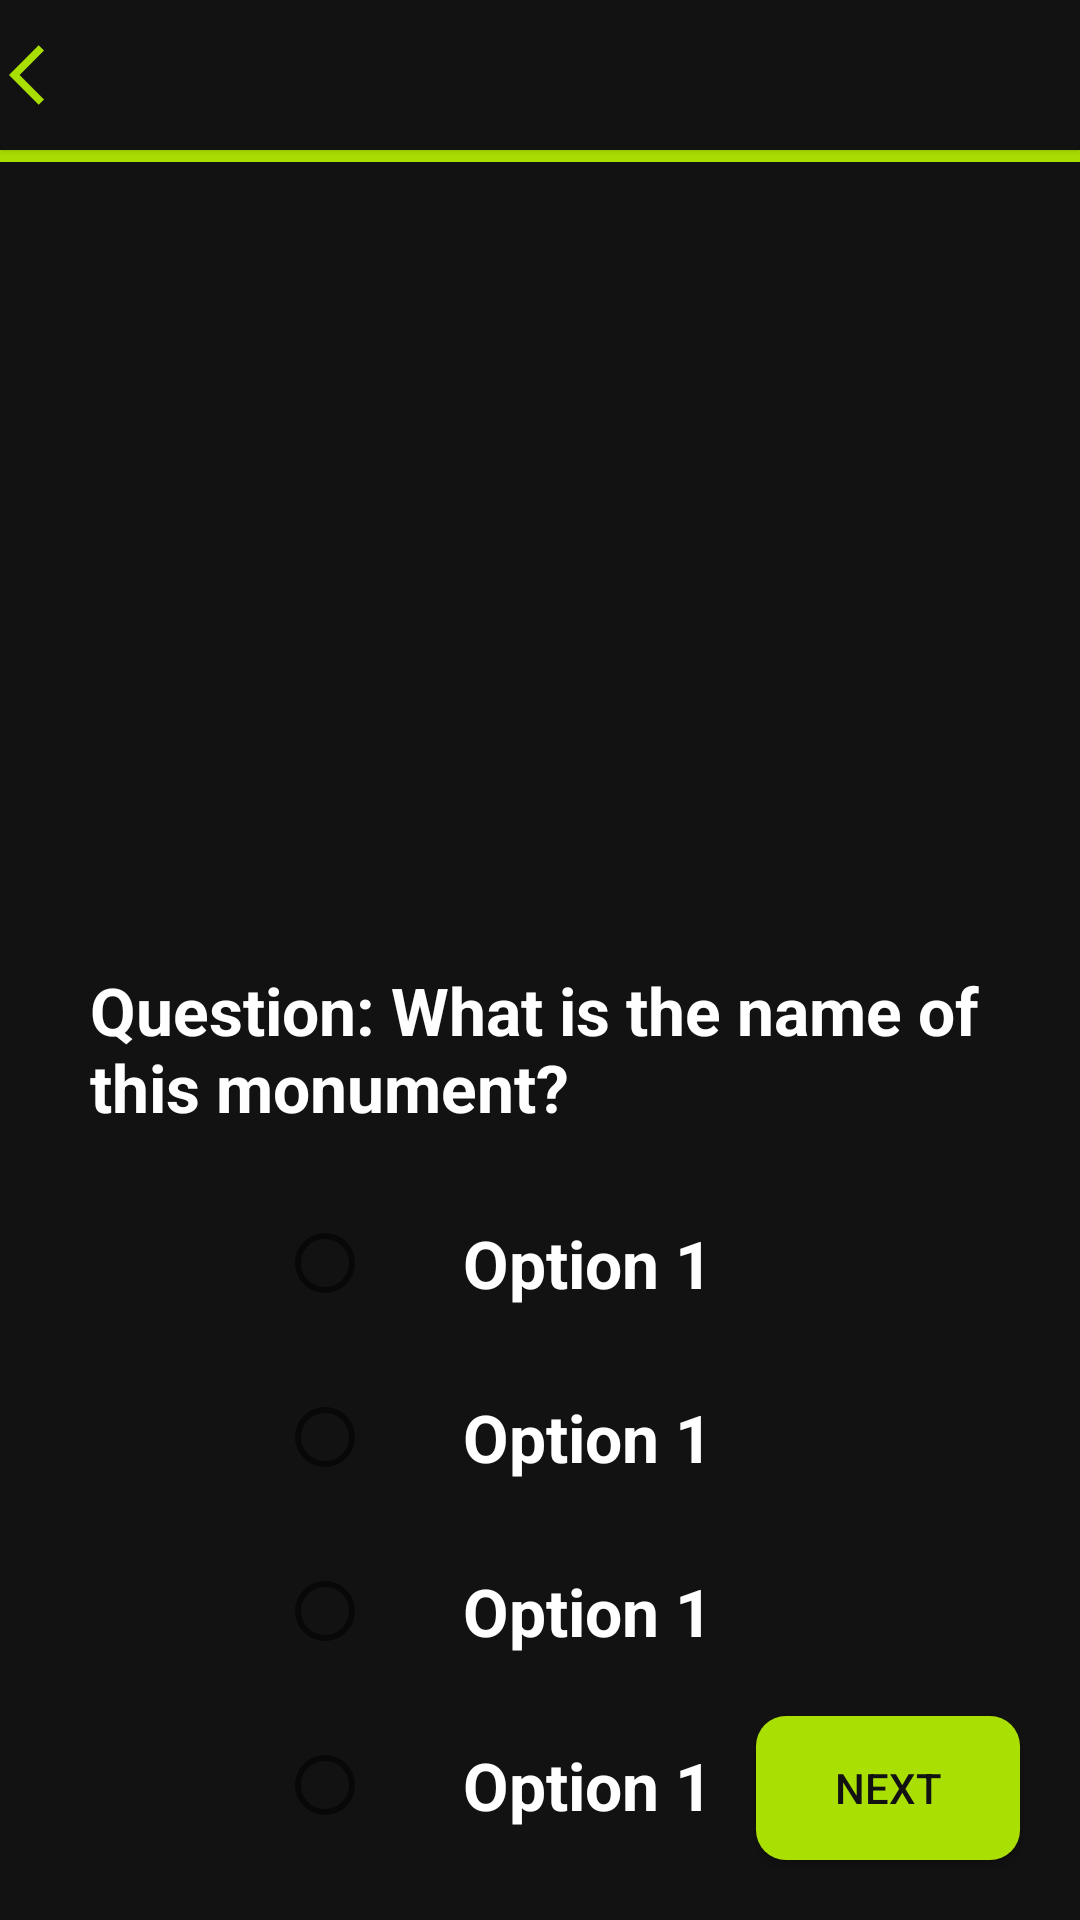

Screen size 1080px x 1920px. Icon name, then its center in pixels as point (x, y):
arrow back: point (26, 75)
